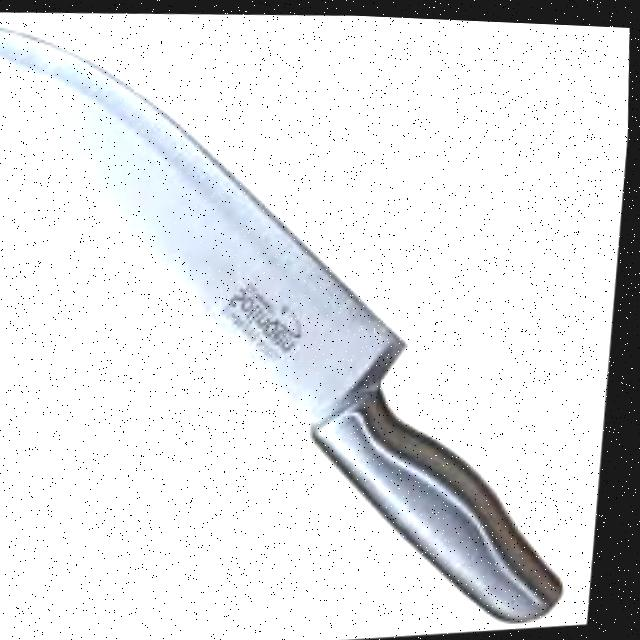knife: (0, 0, 593, 640)
